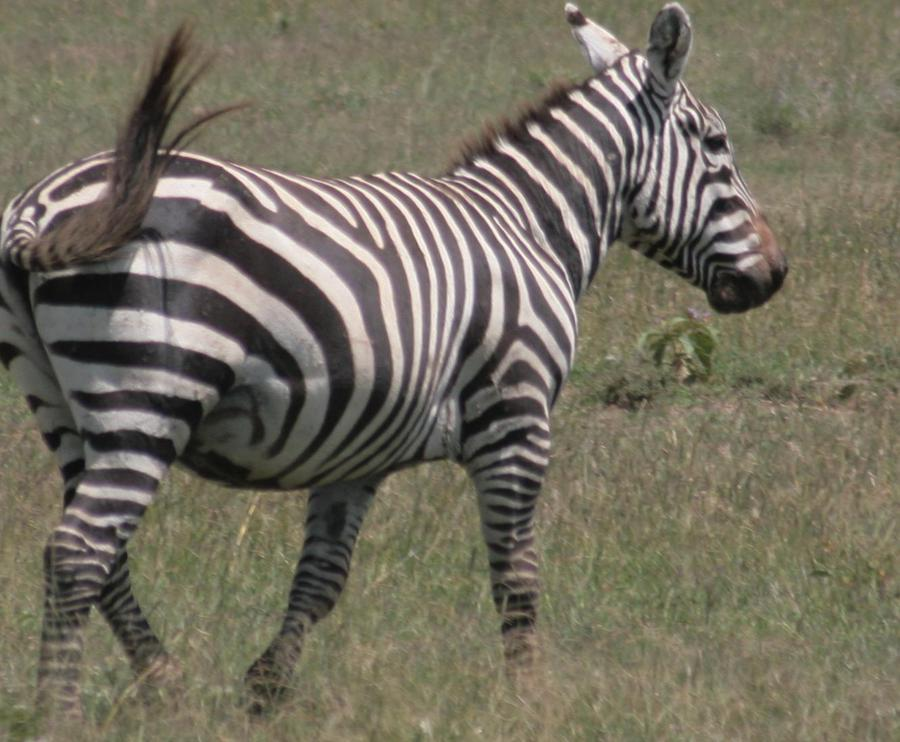zebra_plains: (38, 109, 589, 522)
